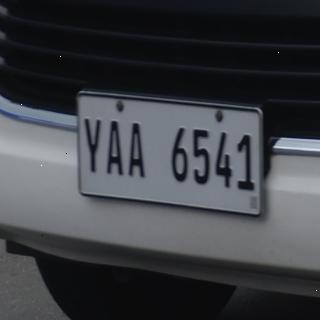license: (79, 93, 264, 216)
